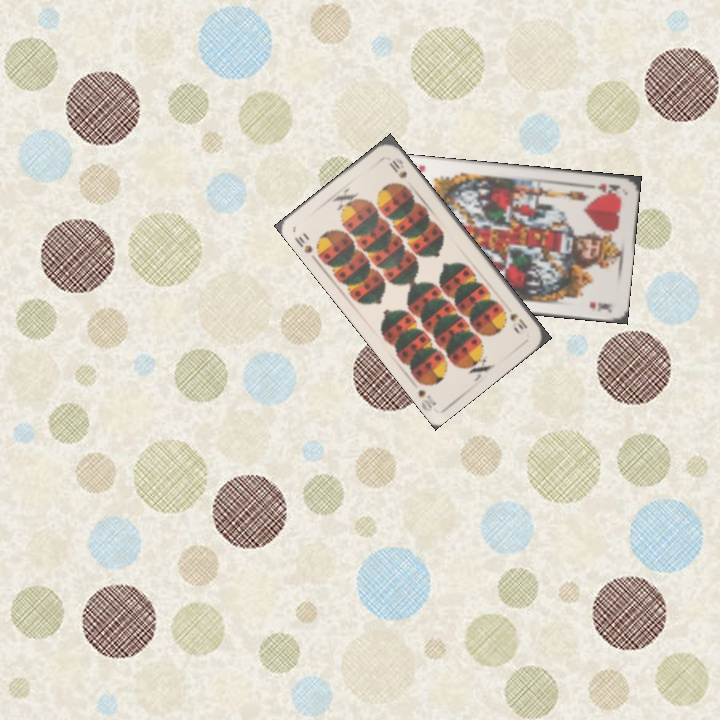HK: (583, 180, 623, 197)
S10: (290, 232, 315, 256), (506, 309, 530, 332)
